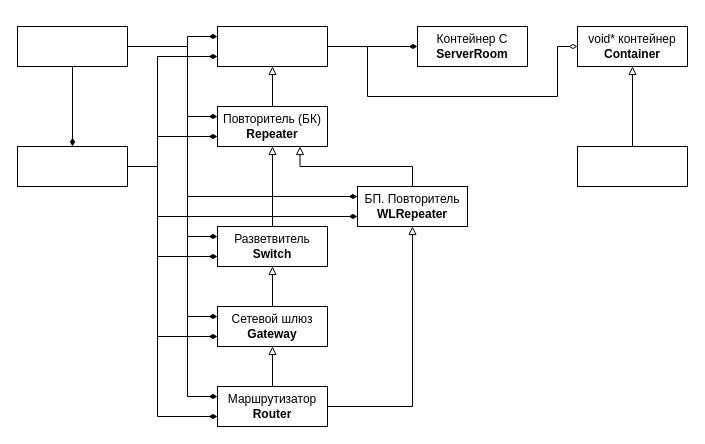
Some shapes in this 705 by 444 pixel diagram are drawn without their labels. The centre of each missing label's shape, as x and y in pixels:
MAC-адрес MAC_Address: (x=72, y=46)
Класс-интерфейс NetDevice_I: (x=272, y=46)
Клиент Client: (x=72, y=166)
Контейнер B DataCanter: (x=632, y=166)
